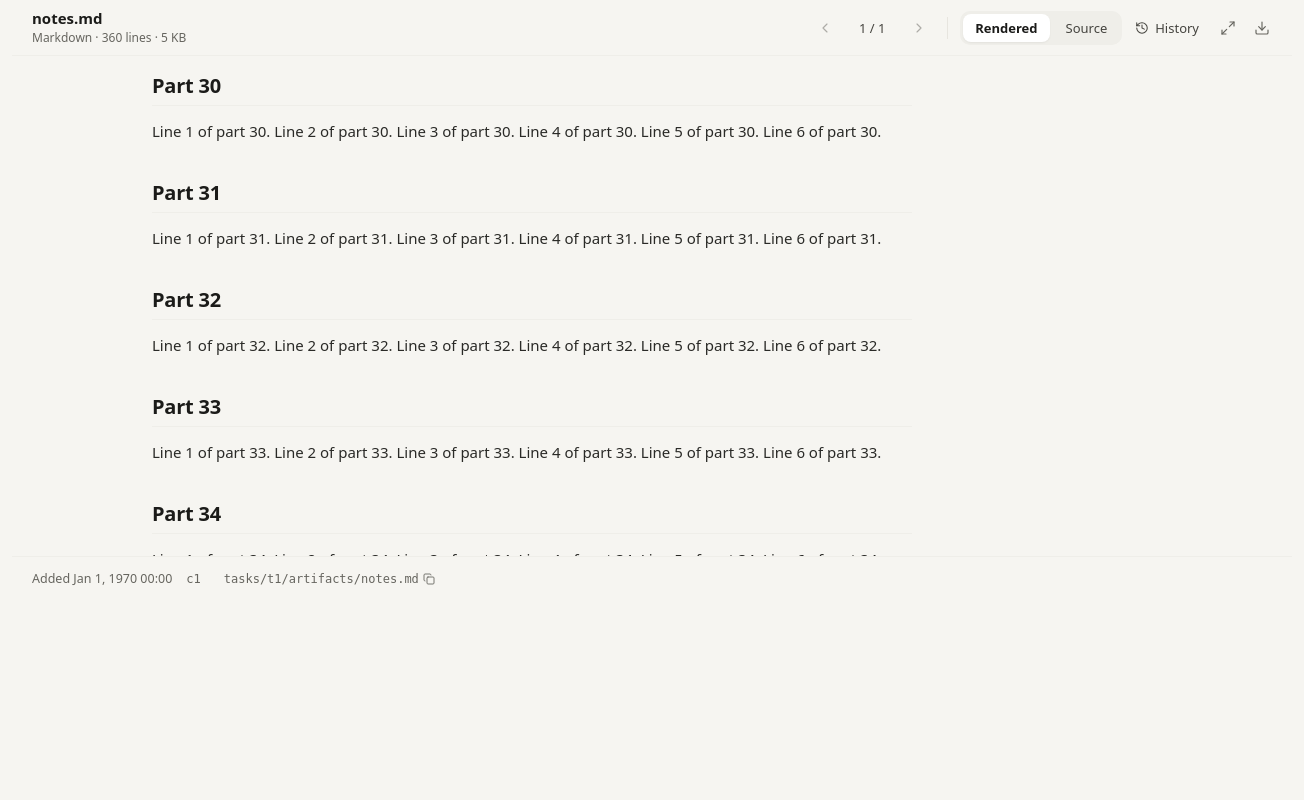
Test: a Markdown file swapped between Rendered and Source › opens each at the place the other was being read
The width and height of the screenshot is (1304, 800).
(page scrolled)
Expected: the heading "Part 30" is shown, [152, 72, 912, 106]
Click the button "Source" at (1086, 28), box [1054, 14, 1119, 42]
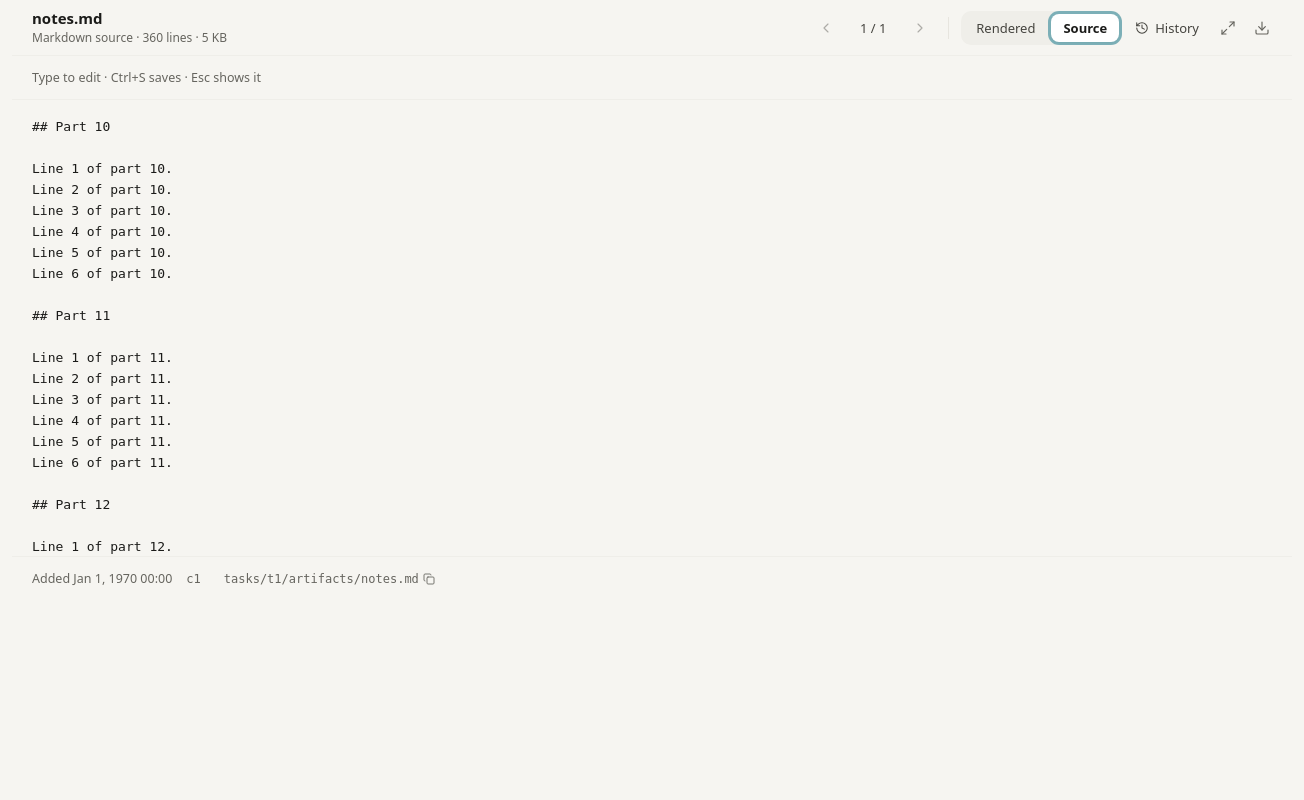
Now the text box named "notes.md" is shown, box [12, 100, 1292, 556]
Click the button "Rendered" at (1006, 28), box [964, 14, 1047, 42]
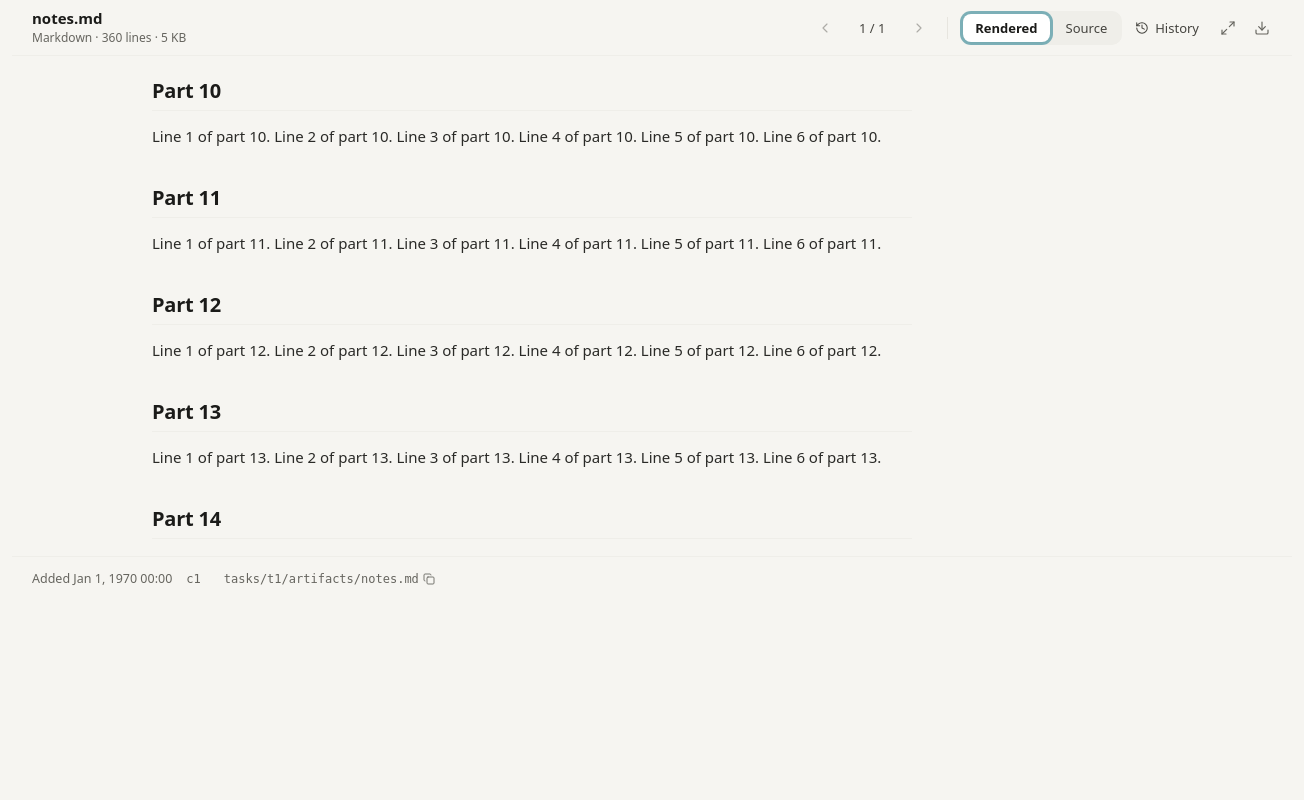
Now the heading "Part 10" is shown, box [152, 77, 912, 111]
